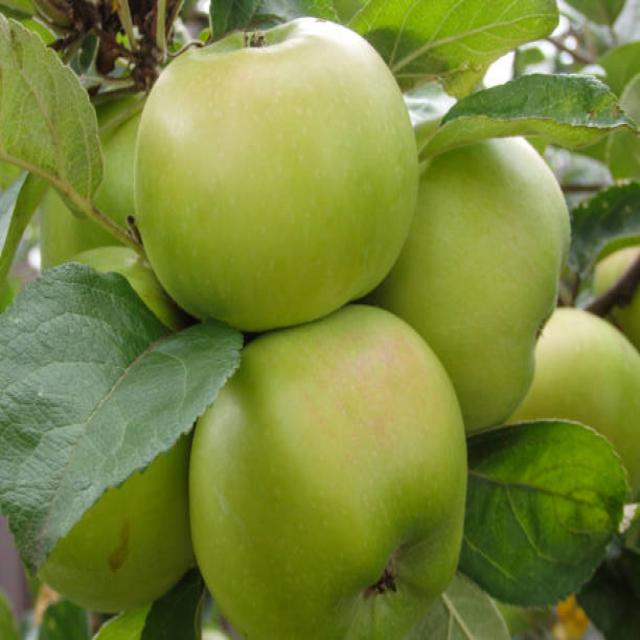Unripe: (191, 303, 468, 640), (138, 13, 418, 330)
